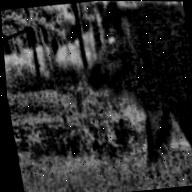boar: (74, 1, 192, 163)
